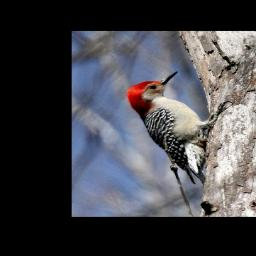Woodpecker: (122, 68, 238, 190)
